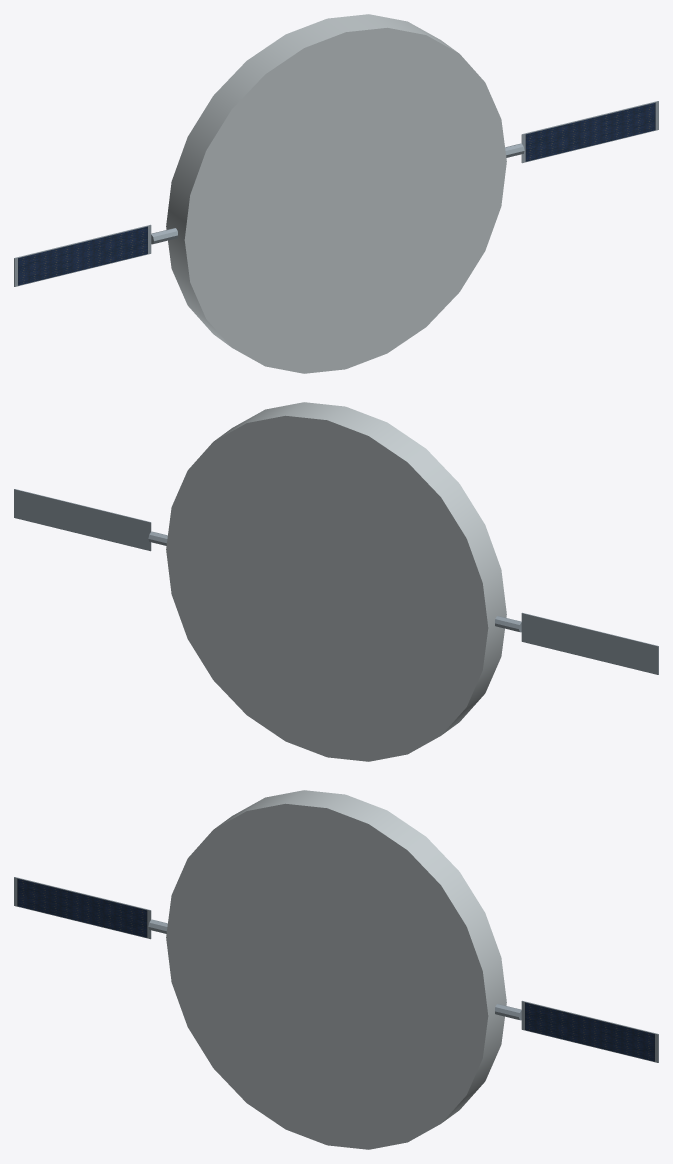
Rendered from ref-meridians-100895.glb.
3 renders of one model, top to bottom at view 1: azimuth 30°, elevation 25°; view 2: azimuth 150°, elevation 25°; view 3: azimuth 330°, elevation 25°, orthographic.
Parts seen in each view (by area): view 1: Spacecraft body, Photovoltaic laminates (×2), Array frame (×2); view 2: Spacecraft body, Array frame (×2); view 3: Spacecraft body, Photovoltaic laminates (×2), Array frame (×2).
Boxes of the visible parts, x1=… form: Spacecraft body: x1=166, y1=14, x2=506, y2=373; Photovoltaic laminates (×2): x1=18, y1=102, x2=655, y2=285; Array frame (×2): x1=14, y1=101, x2=658, y2=286; Spacecraft body: x1=166, y1=402, x2=506, y2=761; Array frame (×2): x1=14, y1=489, x2=658, y2=674; Spacecraft body: x1=166, y1=790, x2=506, y2=1149; Photovoltaic laminates (×2): x1=17, y1=878, x2=654, y2=1061; Array frame (×2): x1=14, y1=877, x2=658, y2=1062.
Bounding box in the file's own units: 4 × 2 × 0.2.
3 materials, 1 textured.
